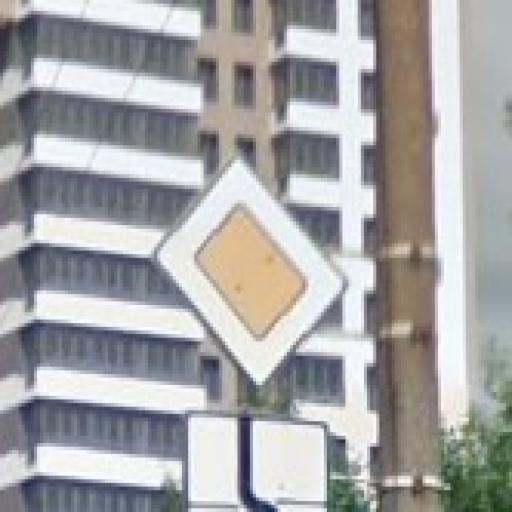traffic_sign: (152, 154, 350, 393)
